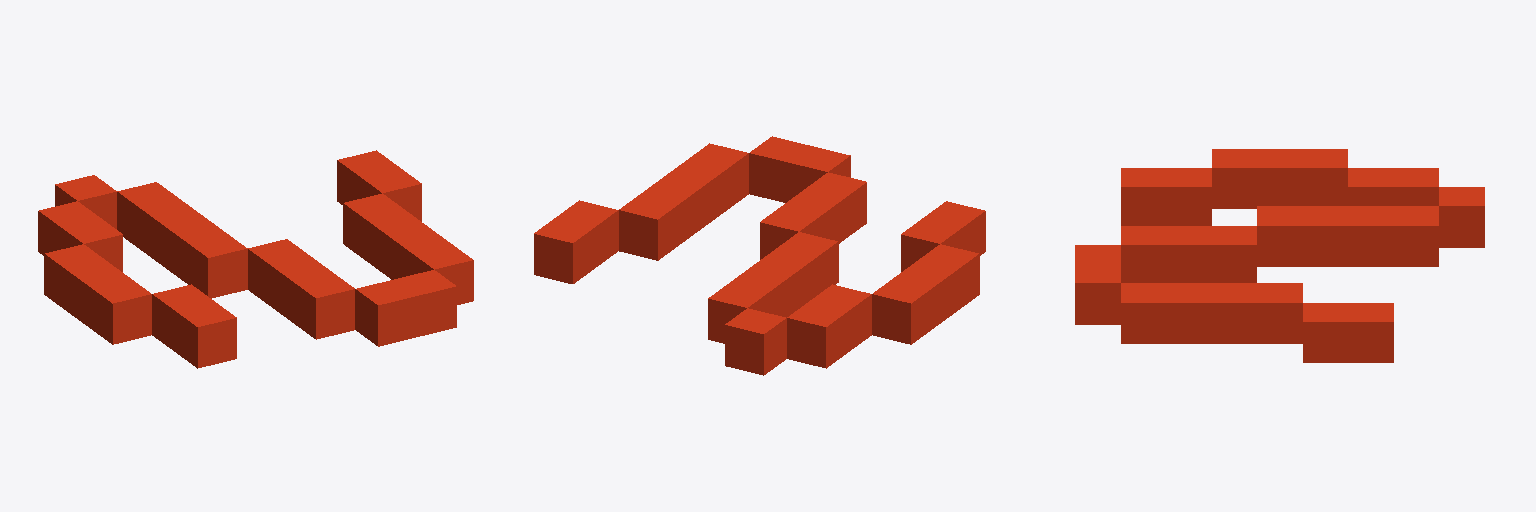
3 views of the same model, side by side, from view 1: azimuth 30°, elevation 25°; view 2: azimuth 150°, elevation 25°; view 3: azimuth 270°, elevation 25° (orthographic).
Visible parts, largest first — view 1: object 1; view 2: object 1; view 3: object 1.
Part boxes in pixels (left/top/right/bottom): object 1: left=38, top=150, right=473, bottom=368; object 1: left=534, top=136, right=985, bottom=375; object 1: left=1075, top=149, right=1484, bottom=362.
Bounding box in the file's own units: 0.9 × 0.1 × 0.9.
1 materials, 1 textured.